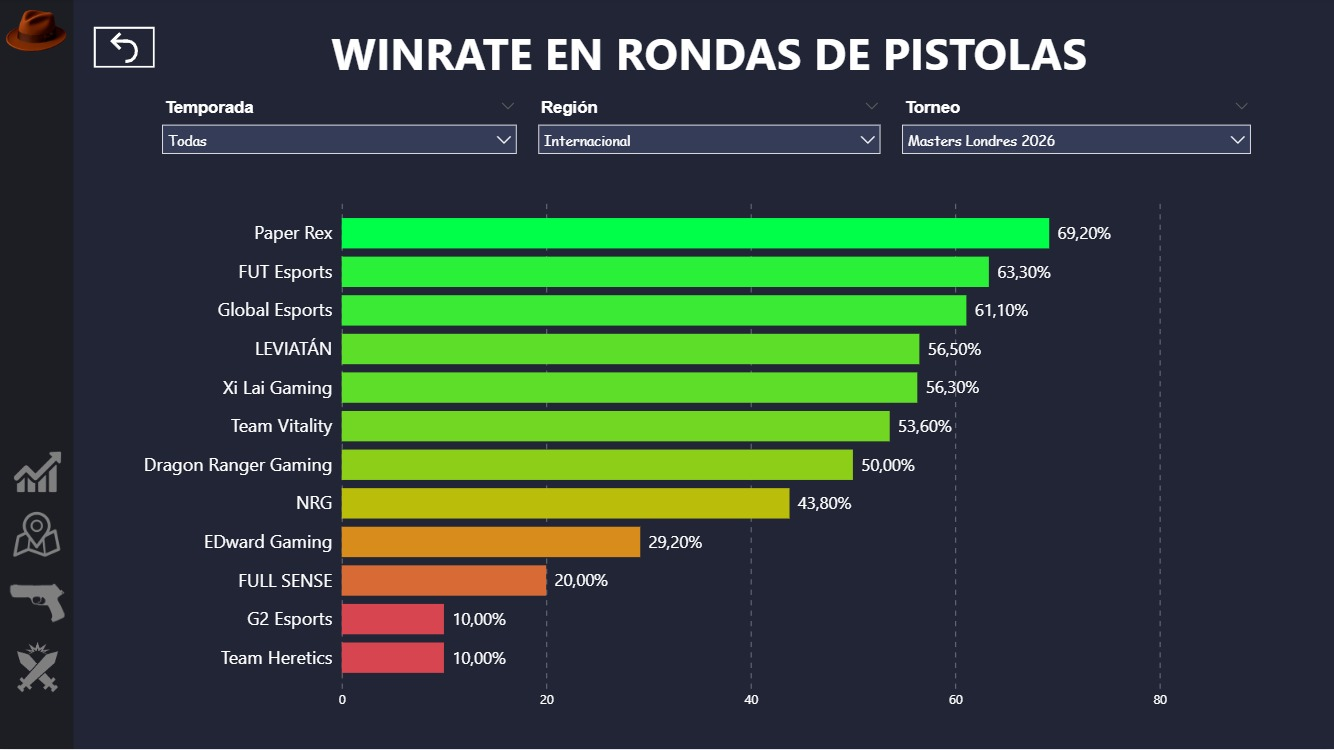

What the dashboard file says about the page in this screenshot:
{"tool":"powerbi","page":{"name":"Pistolas","canvas":[1280,720],"ordinal":2},"visuals":[{"type":"shape","box":[0,0,70.7,720.3],"z":0},{"type":"image","box":[0,0,70.7,68.3],"z":1000},{"type":"image","box":[13.2,431.5,45.5,45.5],"z":2000},{"type":"image","box":[10.8,486.6,49.1,55.1],"z":3000},{"type":"image","box":[8.4,541.7,55.1,76.7],"z":4000},{"type":"image","box":[6,598.1,59.9,89.9],"z":5000},{"type":"slicer","fields":{"Values":["competitions.season"]},"box":[145,91.1,360.7,82.7],"z":6000},{"type":"slicer","fields":{"Values":["competitions.region"]},"box":[505.8,91.1,348.8,93.5],"z":7000},{"type":"slicer","fields":{"Values":["competitions.name"]},"box":[854.5,91.1,354.8,82.7],"z":8000},{"type":"barChart","fields":{"Category":["vct_stats_gg vw_pistol_winrate_teams.equipo"],"Y":["Sum(vw_pistol_winrate_teams.winrate_pistolas)"]},"box":[124.6,183.4,1112.2,508.2],"z":9000},{"type":"textbox","box":[274.5,18,811.4,73.1],"z":10000},{"type":"actionButton","box":[89.9,27.6,58.7,39.6],"z":11000}]}

Visuals, with their boxes on the page's 1280x720 design canvas (x1, y1, x2, y2). These are canvas units, not pixel positions in the 1334x750 screenshot, which may show the page scaled, cropped or inside an application window:
shape: x1=0 y1=0 x2=71 y2=720
image: x1=0 y1=0 x2=71 y2=68
image: x1=13 y1=432 x2=59 y2=477
image: x1=11 y1=487 x2=60 y2=542
image: x1=8 y1=542 x2=64 y2=618
image: x1=6 y1=598 x2=66 y2=688
slicer - competitions.season: x1=145 y1=91 x2=506 y2=174
slicer - competitions.region: x1=506 y1=91 x2=855 y2=185
slicer - competitions.name: x1=854 y1=91 x2=1209 y2=174
barChart - vct_stats_gg vw_pistol_winrate_teams.equipo x Sum(vw_pistol_winrate_teams.winrate_pistolas): x1=125 y1=183 x2=1237 y2=692
textbox: x1=274 y1=18 x2=1086 y2=91
actionButton: x1=90 y1=28 x2=149 y2=67
